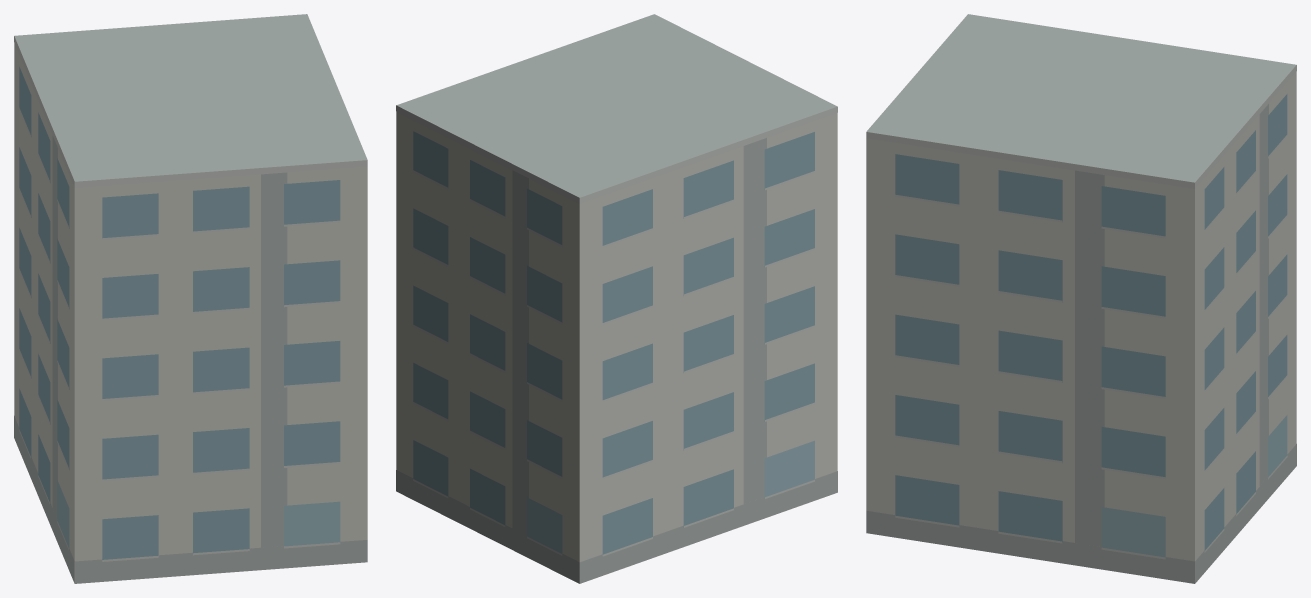
The model's file is residential-1a6708ee-9c91-4f07-bd8c-f23739483e53.glb.
3 views of the same model, side by side, from view 1: azimuth 30°, elevation 25°; view 2: azimuth 150°, elevation 25°; view 3: azimuth 270°, elevation 25° (orthographic). The views are drawn at different scales.
Visible parts, largest first — view 1: residential-1a6708ee-9c91-4f07-bd8c-f23739483e53.tmp; view 2: residential-1a6708ee-9c91-4f07-bd8c-f23739483e53.tmp; view 3: residential-1a6708ee-9c91-4f07-bd8c-f23739483e53.tmp.
Part boxes in pixels (bbox=[...]): residential-1a6708ee-9c91-4f07-bd8c-f23739483e53.tmp: bbox=[14, 14, 367, 583]; residential-1a6708ee-9c91-4f07-bd8c-f23739483e53.tmp: bbox=[396, 14, 837, 583]; residential-1a6708ee-9c91-4f07-bd8c-f23739483e53.tmp: bbox=[866, 14, 1296, 583].
Bounding box in the file's own units: 13.75 × 15.25 × 14.84.
